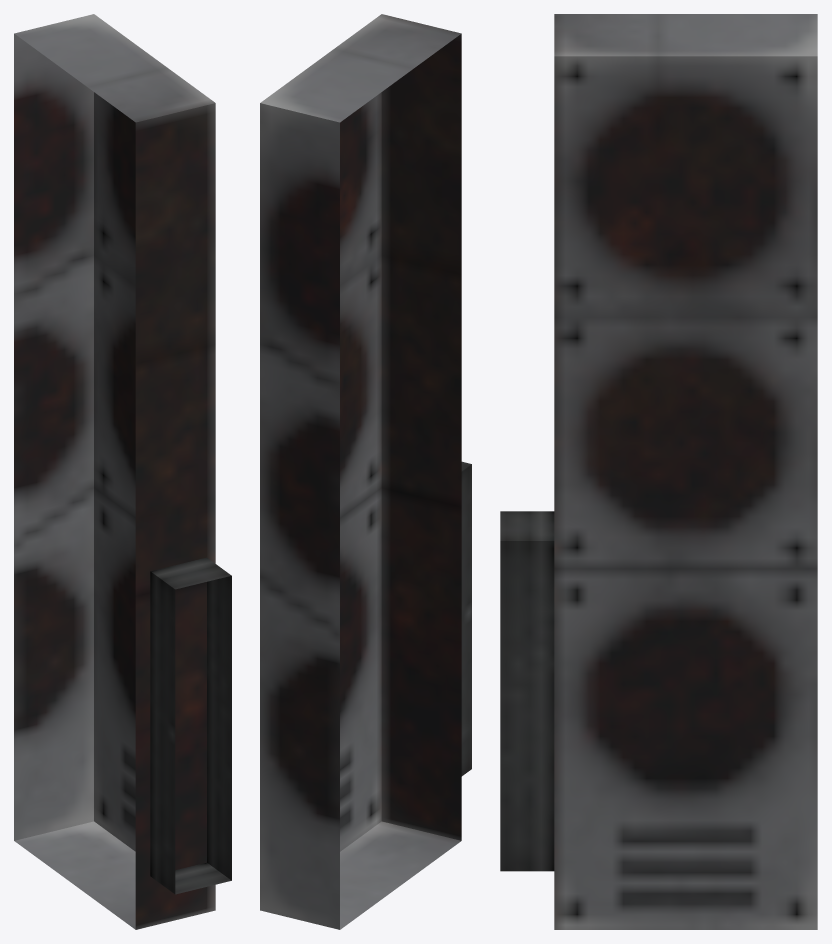
Rendered from VR_DoorLock_Base.fbx.
The picture shows the model from 3 angles, left to right: view 1: azimuth 30°, elevation 25°; view 2: azimuth 150°, elevation 25°; view 3: azimuth 270°, elevation 25°; orthographic projection. The views are drawn at different scales.
Parts seen in each view (by area): view 1: Circle.006; view 2: Circle.006; view 3: Circle.006.
Boxes of the visible parts, x1=… form: Circle.006: x1=14, y1=14, x2=231, y2=929; Circle.006: x1=260, y1=14, x2=471, y2=929; Circle.006: x1=500, y1=14, x2=817, y2=929.
Size of the model in its own units: 0.1756 by 1.69 by 0.5573.
